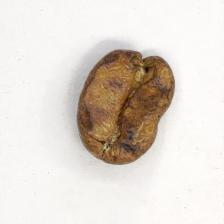NG: (89, 51, 174, 161)
